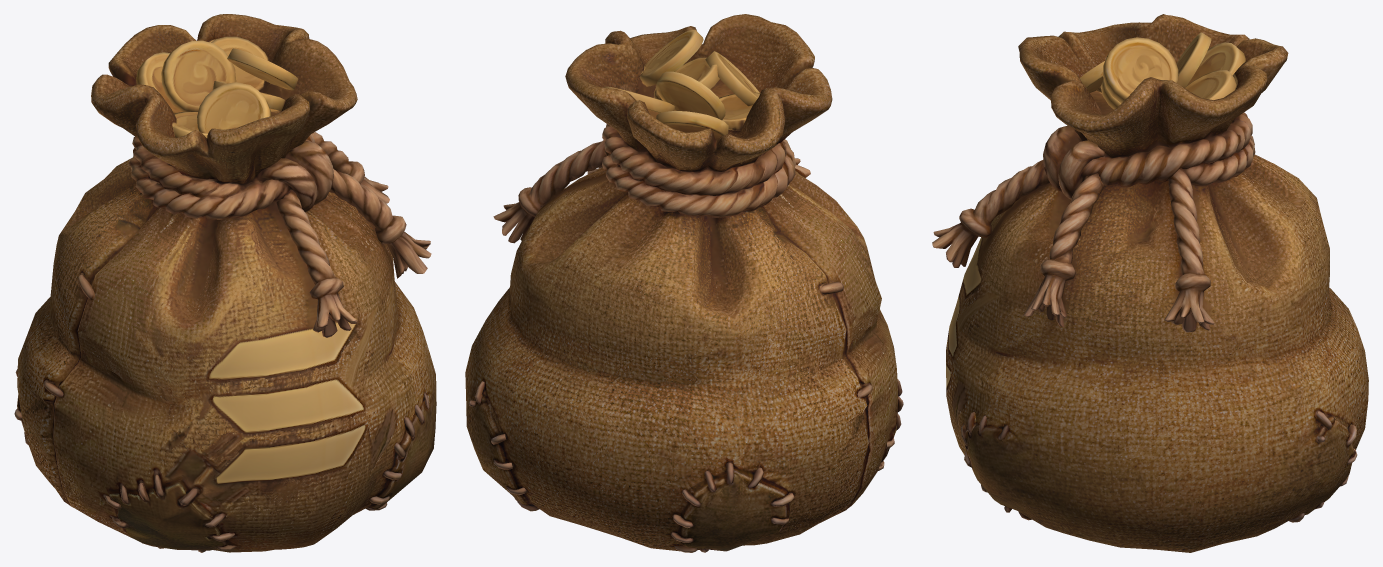
The model's file is tripo_convert_577837dd-1d26-495a-b39e-1c286630f321.fbx.
3 renders of one model, left to right at view 1: azimuth 30°, elevation 25°; view 2: azimuth 150°, elevation 25°; view 3: azimuth 270°, elevation 25°, orthographic.
Parts seen in each view (by area): view 1: tripo_node_577837dd; view 2: tripo_node_577837dd; view 3: tripo_node_577837dd.
Part boxes in pixels (box(x1,y1,x2,y2)): tripo_node_577837dd: box(14, 14, 436, 552); tripo_node_577837dd: box(465, 14, 903, 552); tripo_node_577837dd: box(932, 14, 1368, 552).
Bounding box in the file's own units: 0.8462 × 0.9995 × 0.8403.
Materials: 1 (1 with a texture image).
